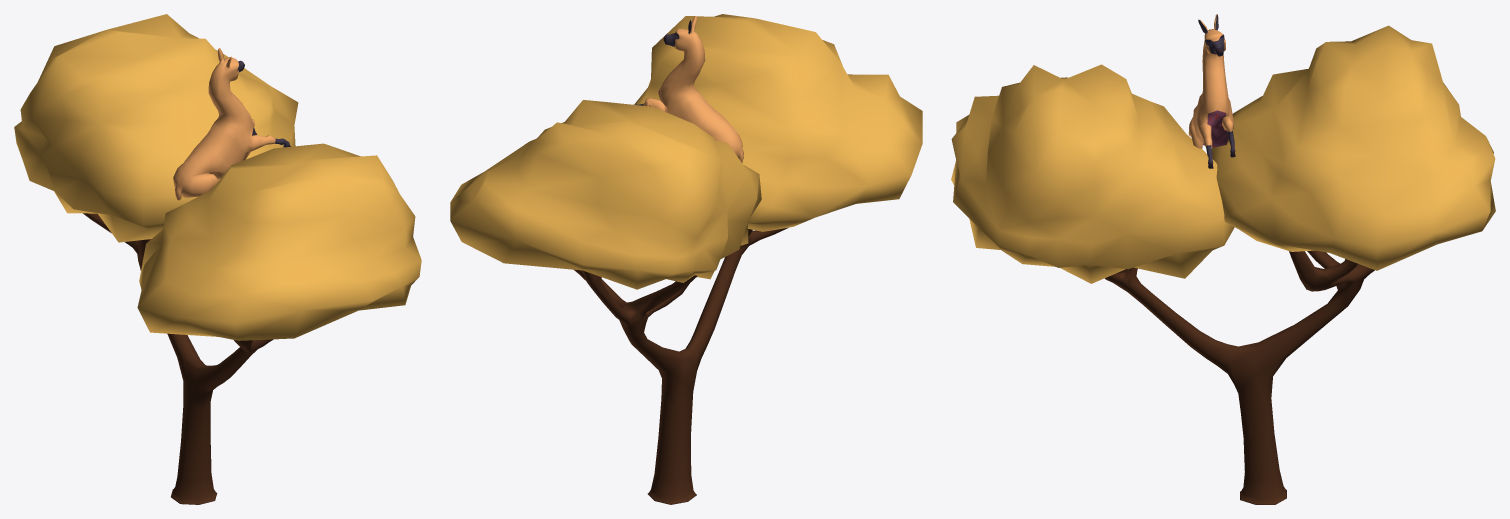
The model's file is Tree-Alpaca-no2.gltf.
3 views of the same model, side by side, from view 1: azimuth 30°, elevation 25°; view 2: azimuth 150°, elevation 25°; view 3: azimuth 270°, elevation 25° (orthographic). The views are drawn at different scales.
Visible parts, largest first — view 1: Tree-Alpaca-no2; view 2: Tree-Alpaca-no2; view 3: Tree-Alpaca-no2.
Part boxes in pixels (x1,y1,x2,y2): Tree-Alpaca-no2: (14,14,421,504); Tree-Alpaca-no2: (450,14,922,504); Tree-Alpaca-no2: (951,14,1495,504).
Size of the model in its own units: 1.89 by 2.71 by 2.77.
1 material, 1 textured.
